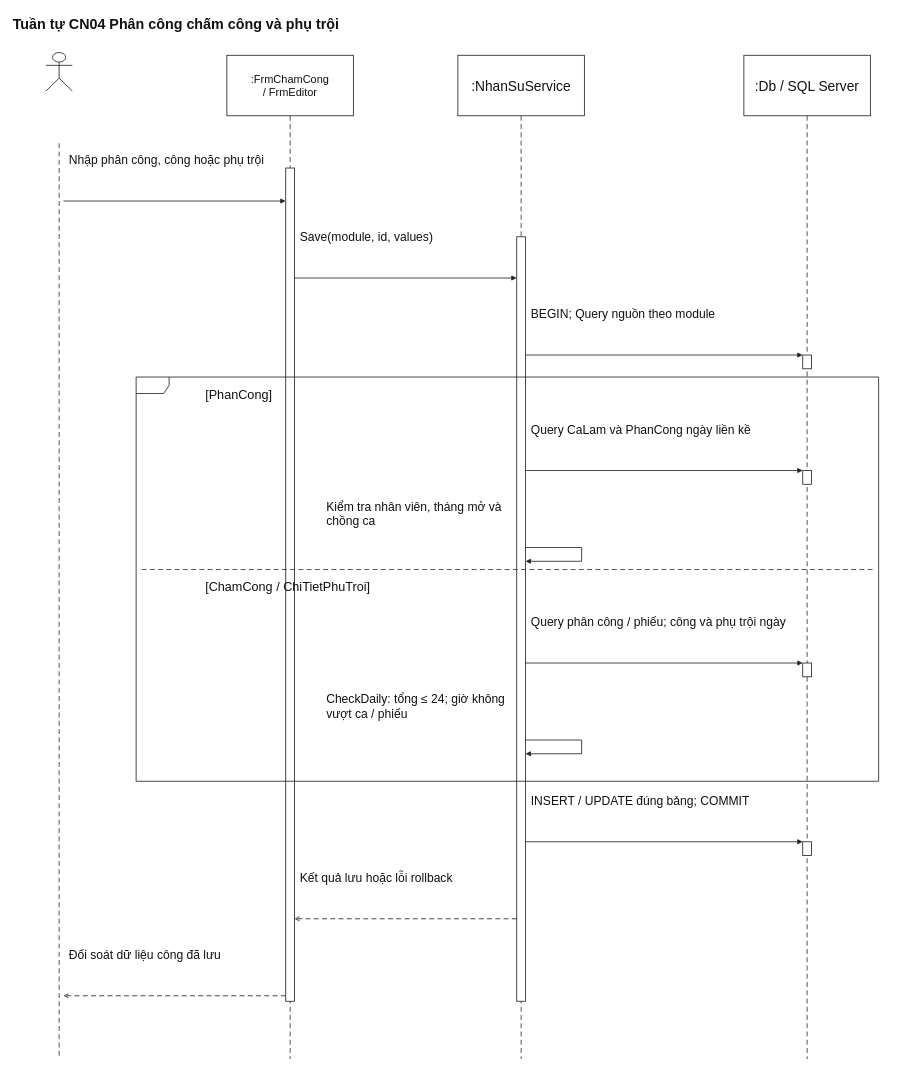
Some shapes in this 899 by 1069 pixel diagram are drawn without their labels. Each missing label, with the box of its shape:
alt: (135, 376, 879, 781)
Trưởng phòng / Ban chấm công: (45, 52, 72, 91)
